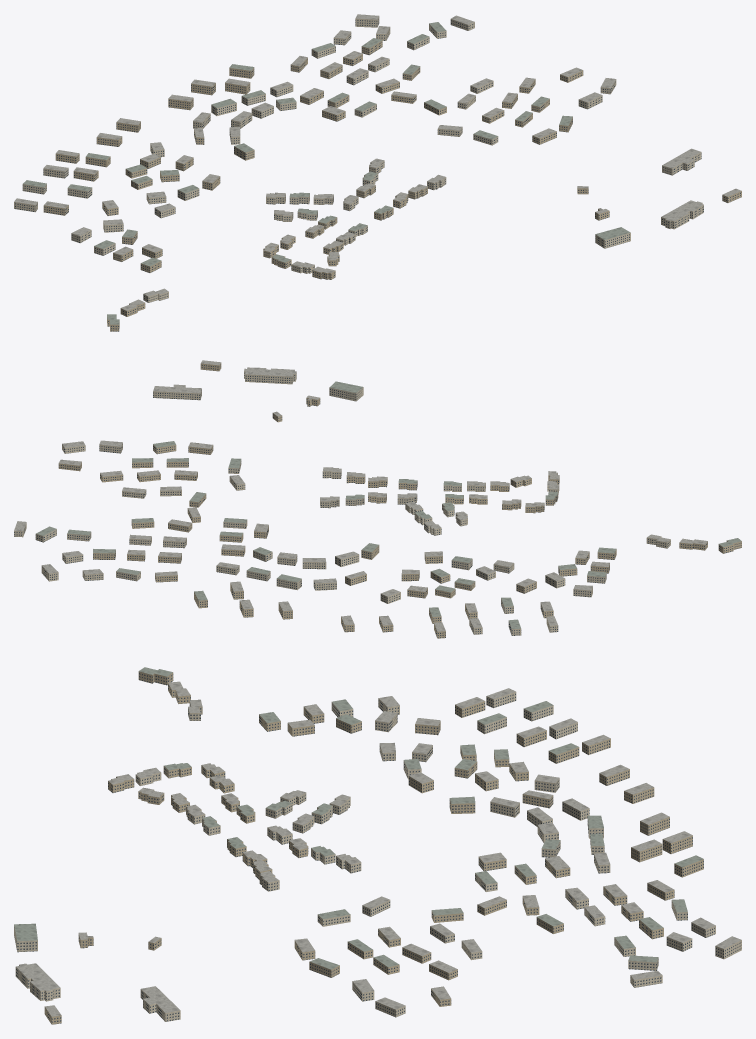
The model's file is ArahaTown_Block_E00000_N03072.gltf.
3 renders of one model, top to bottom at view 1: azimuth 30°, elevation 25°; view 2: azimuth 150°, elevation 25°; view 3: azimuth 270°, elevation 25°, orthographic. The views are drawn at different scales.
Parts seen in each view (by area): view 1: ArahaTown_Block_E00000_N03072; view 2: ArahaTown_Block_E00000_N03072; view 3: ArahaTown_Block_E00000_N03072.
Part boxes in pixels (x1,y1,x2,y2): ArahaTown_Block_E00000_N03072: [14, 14, 741, 331]; ArahaTown_Block_E00000_N03072: [14, 360, 741, 638]; ArahaTown_Block_E00000_N03072: [14, 667, 741, 1024].
Bounding box in the file's own units: 874 × 45.54 × 717.
4 materials, 4 textured.
